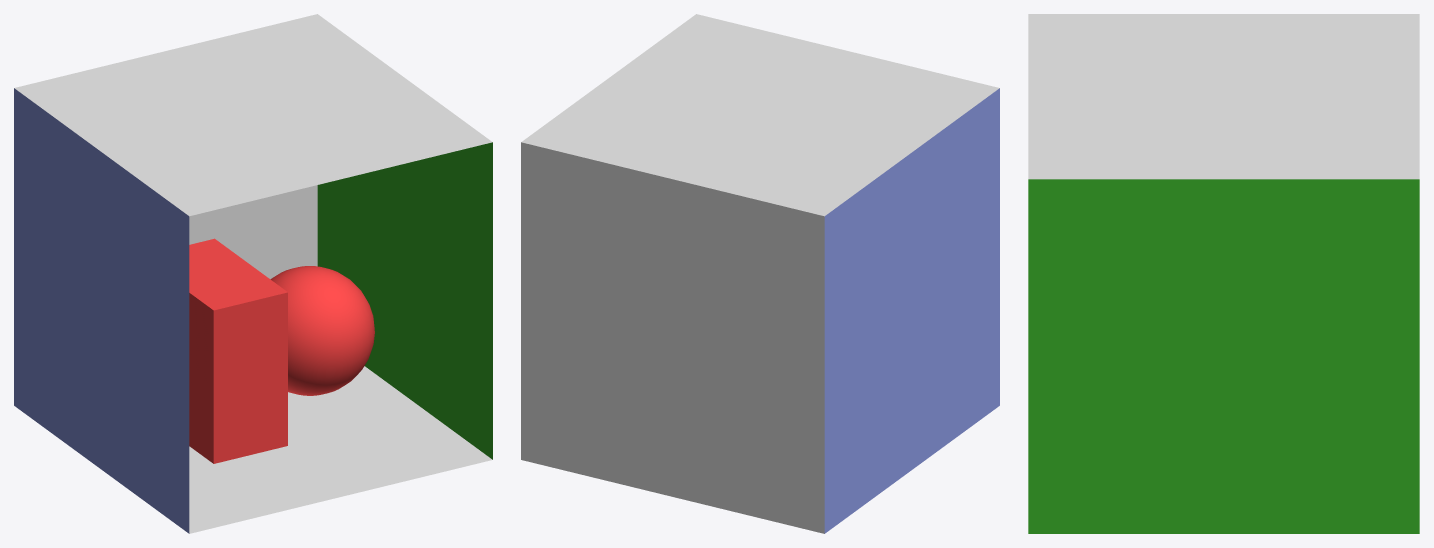
File: cornelbox2.DAE
3 renders of one model, left to right at view 1: azimuth 30°, elevation 25°; view 2: azimuth 150°, elevation 25°; view 3: azimuth 270°, elevation 25°, orthographic. The views are drawn at different scales.
Visible parts, largest first — view 1: Plane004, Plane002, Plane003, Plane001, Box001, Sphere001, Plane005; view 2: Plane005, Plane004, Plane002; view 3: Plane003, Plane002.
Boxes of the visible parts, x1,y1,x2,y2 form: Plane004: (14, 88, 189, 533); Plane002: (14, 14, 492, 216); Plane003: (317, 142, 492, 459); Plane001: (189, 366, 492, 533); Box001: (189, 238, 287, 463); Sphere001: (270, 266, 374, 395); Plane005: (189, 185, 317, 279); Plane005: (521, 142, 824, 533); Plane004: (824, 88, 999, 533); Plane002: (521, 14, 999, 216); Plane003: (1028, 179, 1419, 533); Plane002: (1028, 14, 1419, 179).
Size of the model in its own units: 30 by 30 by 30.
